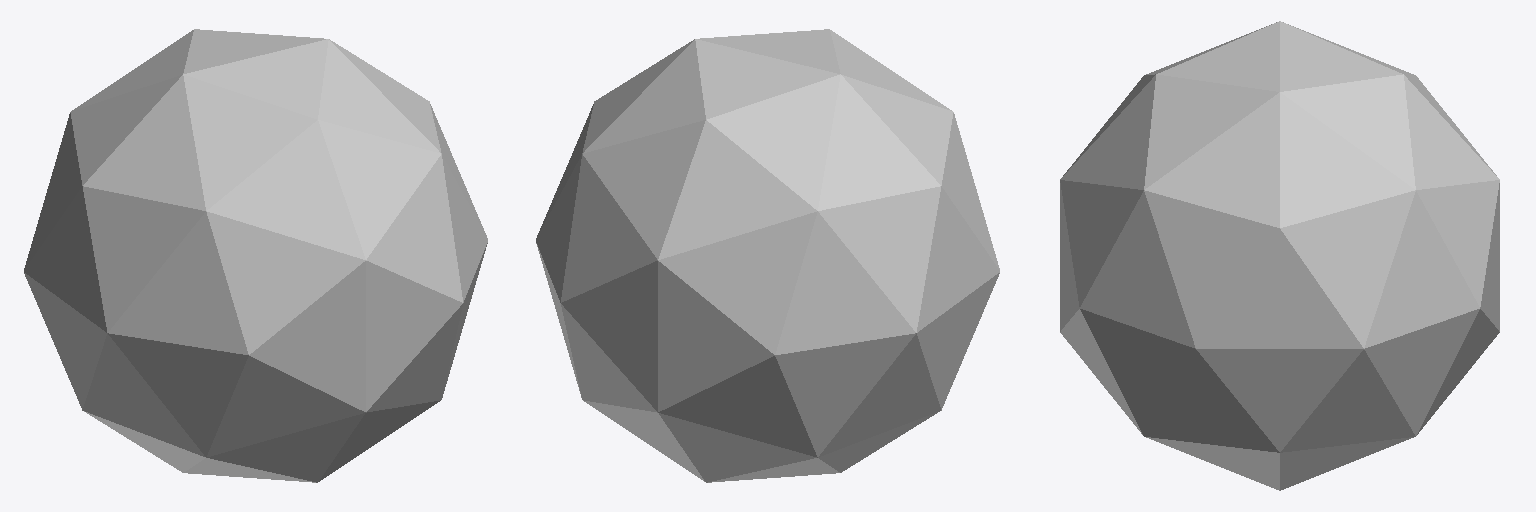
The model's file is 6-geodesic.obj.
3 renders of one model, left to right at view 1: azimuth 30°, elevation 25°; view 2: azimuth 150°, elevation 25°; view 3: azimuth 270°, elevation 25°, orthographic.
Size of the model in its own units: 1.87 by 1.87 by 1.87.